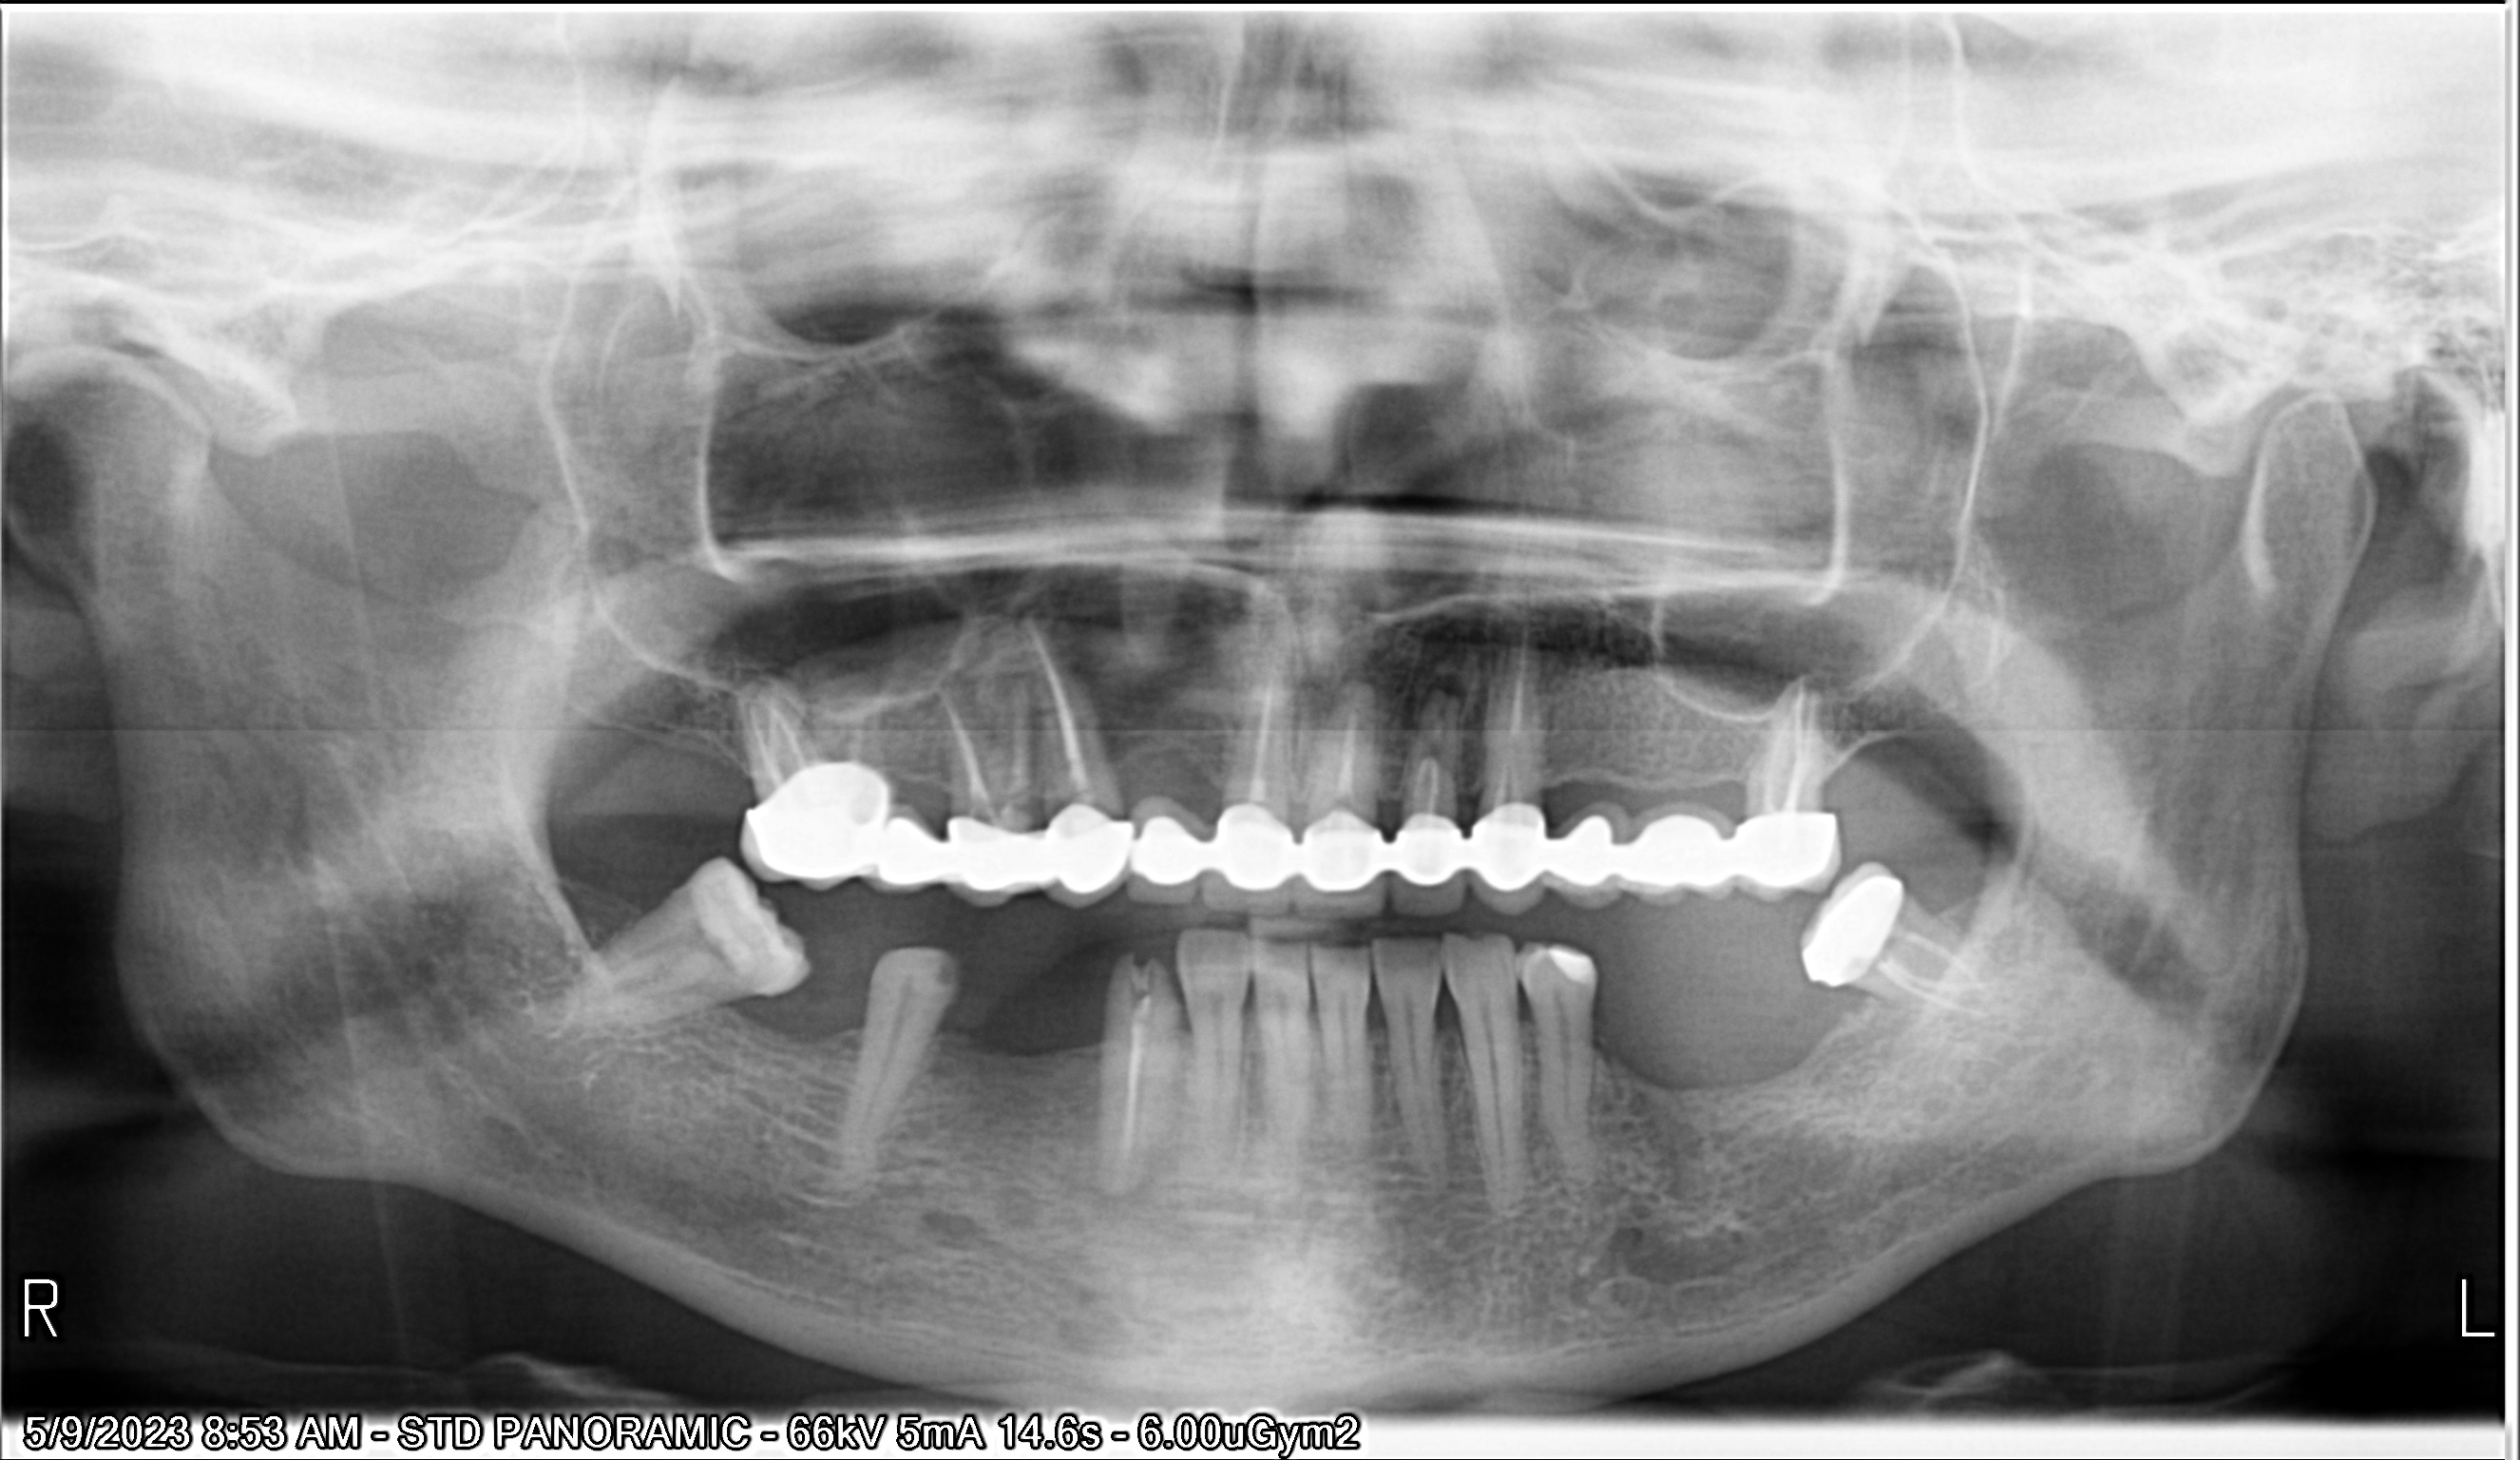API: (1085, 1159, 1146, 1222), (1004, 587, 1056, 648), (1431, 655, 1478, 721)
CAR: (1115, 951, 1162, 994), (933, 947, 969, 998)
END: (1902, 925, 2027, 1012), (1023, 631, 1084, 793), (1108, 1006, 1160, 1182), (1865, 970, 1973, 1053), (929, 690, 985, 810), (993, 666, 1032, 812), (1497, 647, 1530, 810), (736, 697, 782, 803), (761, 681, 816, 766), (1244, 690, 1282, 812), (1336, 700, 1363, 815), (1794, 690, 1818, 813), (1415, 751, 1450, 812), (1765, 721, 1785, 813)
OBT: (1537, 939, 1612, 996)
PRR: (1120, 787, 1851, 907), (728, 784, 1124, 904), (681, 850, 820, 1012), (1804, 853, 1897, 992)
